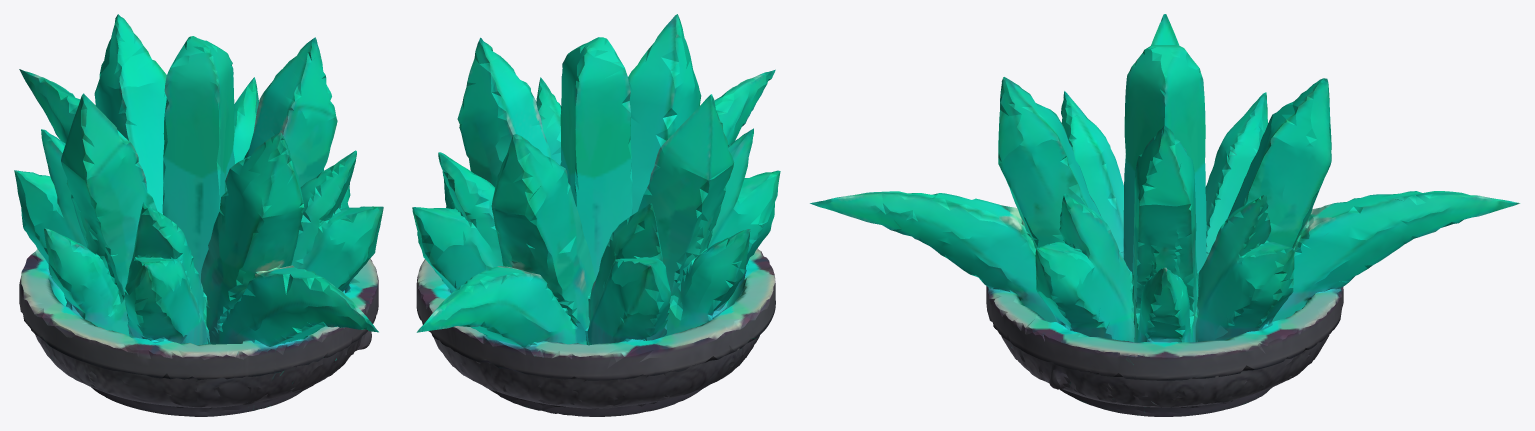
The model's file is Atlantis_CrystalHeart.glb.
3 views of the same model, side by side, from view 1: azimuth 30°, elevation 25°; view 2: azimuth 150°, elevation 25°; view 3: azimuth 270°, elevation 25° (orthographic).
Parts seen in each view (by area): view 1: Atlantis_CrystalHeart; view 2: Atlantis_CrystalHeart; view 3: Atlantis_CrystalHeart.
Part boxes in pixels (x1=…): Atlantis_CrystalHeart: x1=14, y1=14, x2=383, y2=416; Atlantis_CrystalHeart: x1=412, y1=14, x2=780, y2=416; Atlantis_CrystalHeart: x1=810, y1=14, x2=1520, y2=416.
Size of the model in its own units: 2.61 by 2.6 by 5.22.
1 material, 1 textured.
